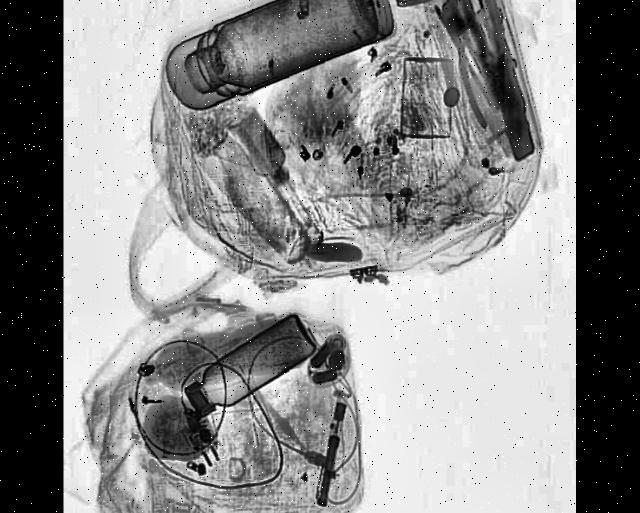Pliers: (456, 0, 535, 135), (433, 0, 500, 131)
